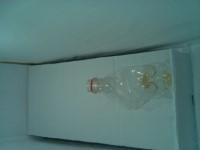bottle: (82, 63, 174, 106)
